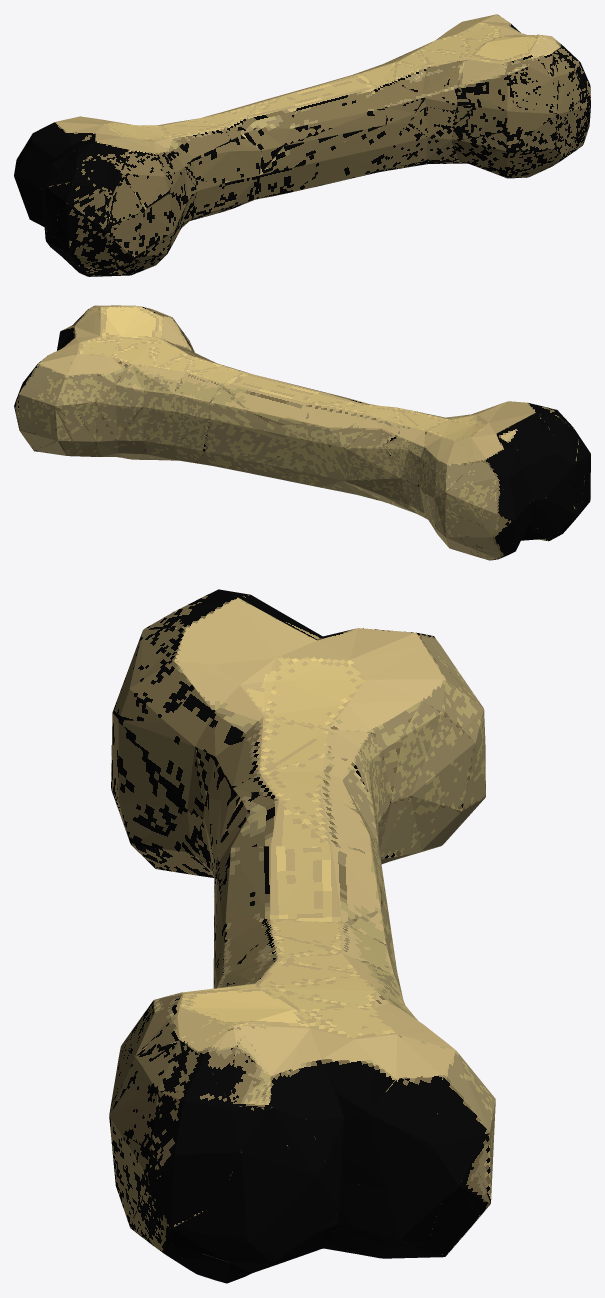
The picture shows the model from 3 angles, top to bottom: view 1: azimuth 30°, elevation 25°; view 2: azimuth 150°, elevation 25°; view 3: azimuth 270°, elevation 25°; orthographic projection. The views are drawn at different scales.
Visible parts, largest first — view 1: OBJ0c4; view 2: OBJ0c4; view 3: OBJ0c4.
Boxes of the visible parts, bbox=[...] form: OBJ0c4: bbox=[14, 14, 590, 276]; OBJ0c4: bbox=[14, 305, 590, 560]; OBJ0c4: bbox=[109, 589, 495, 1283].
Size of the model in its own units: 0.3235 by 0.0762 by 0.1039.
Materials: 1 (1 with a texture image).
